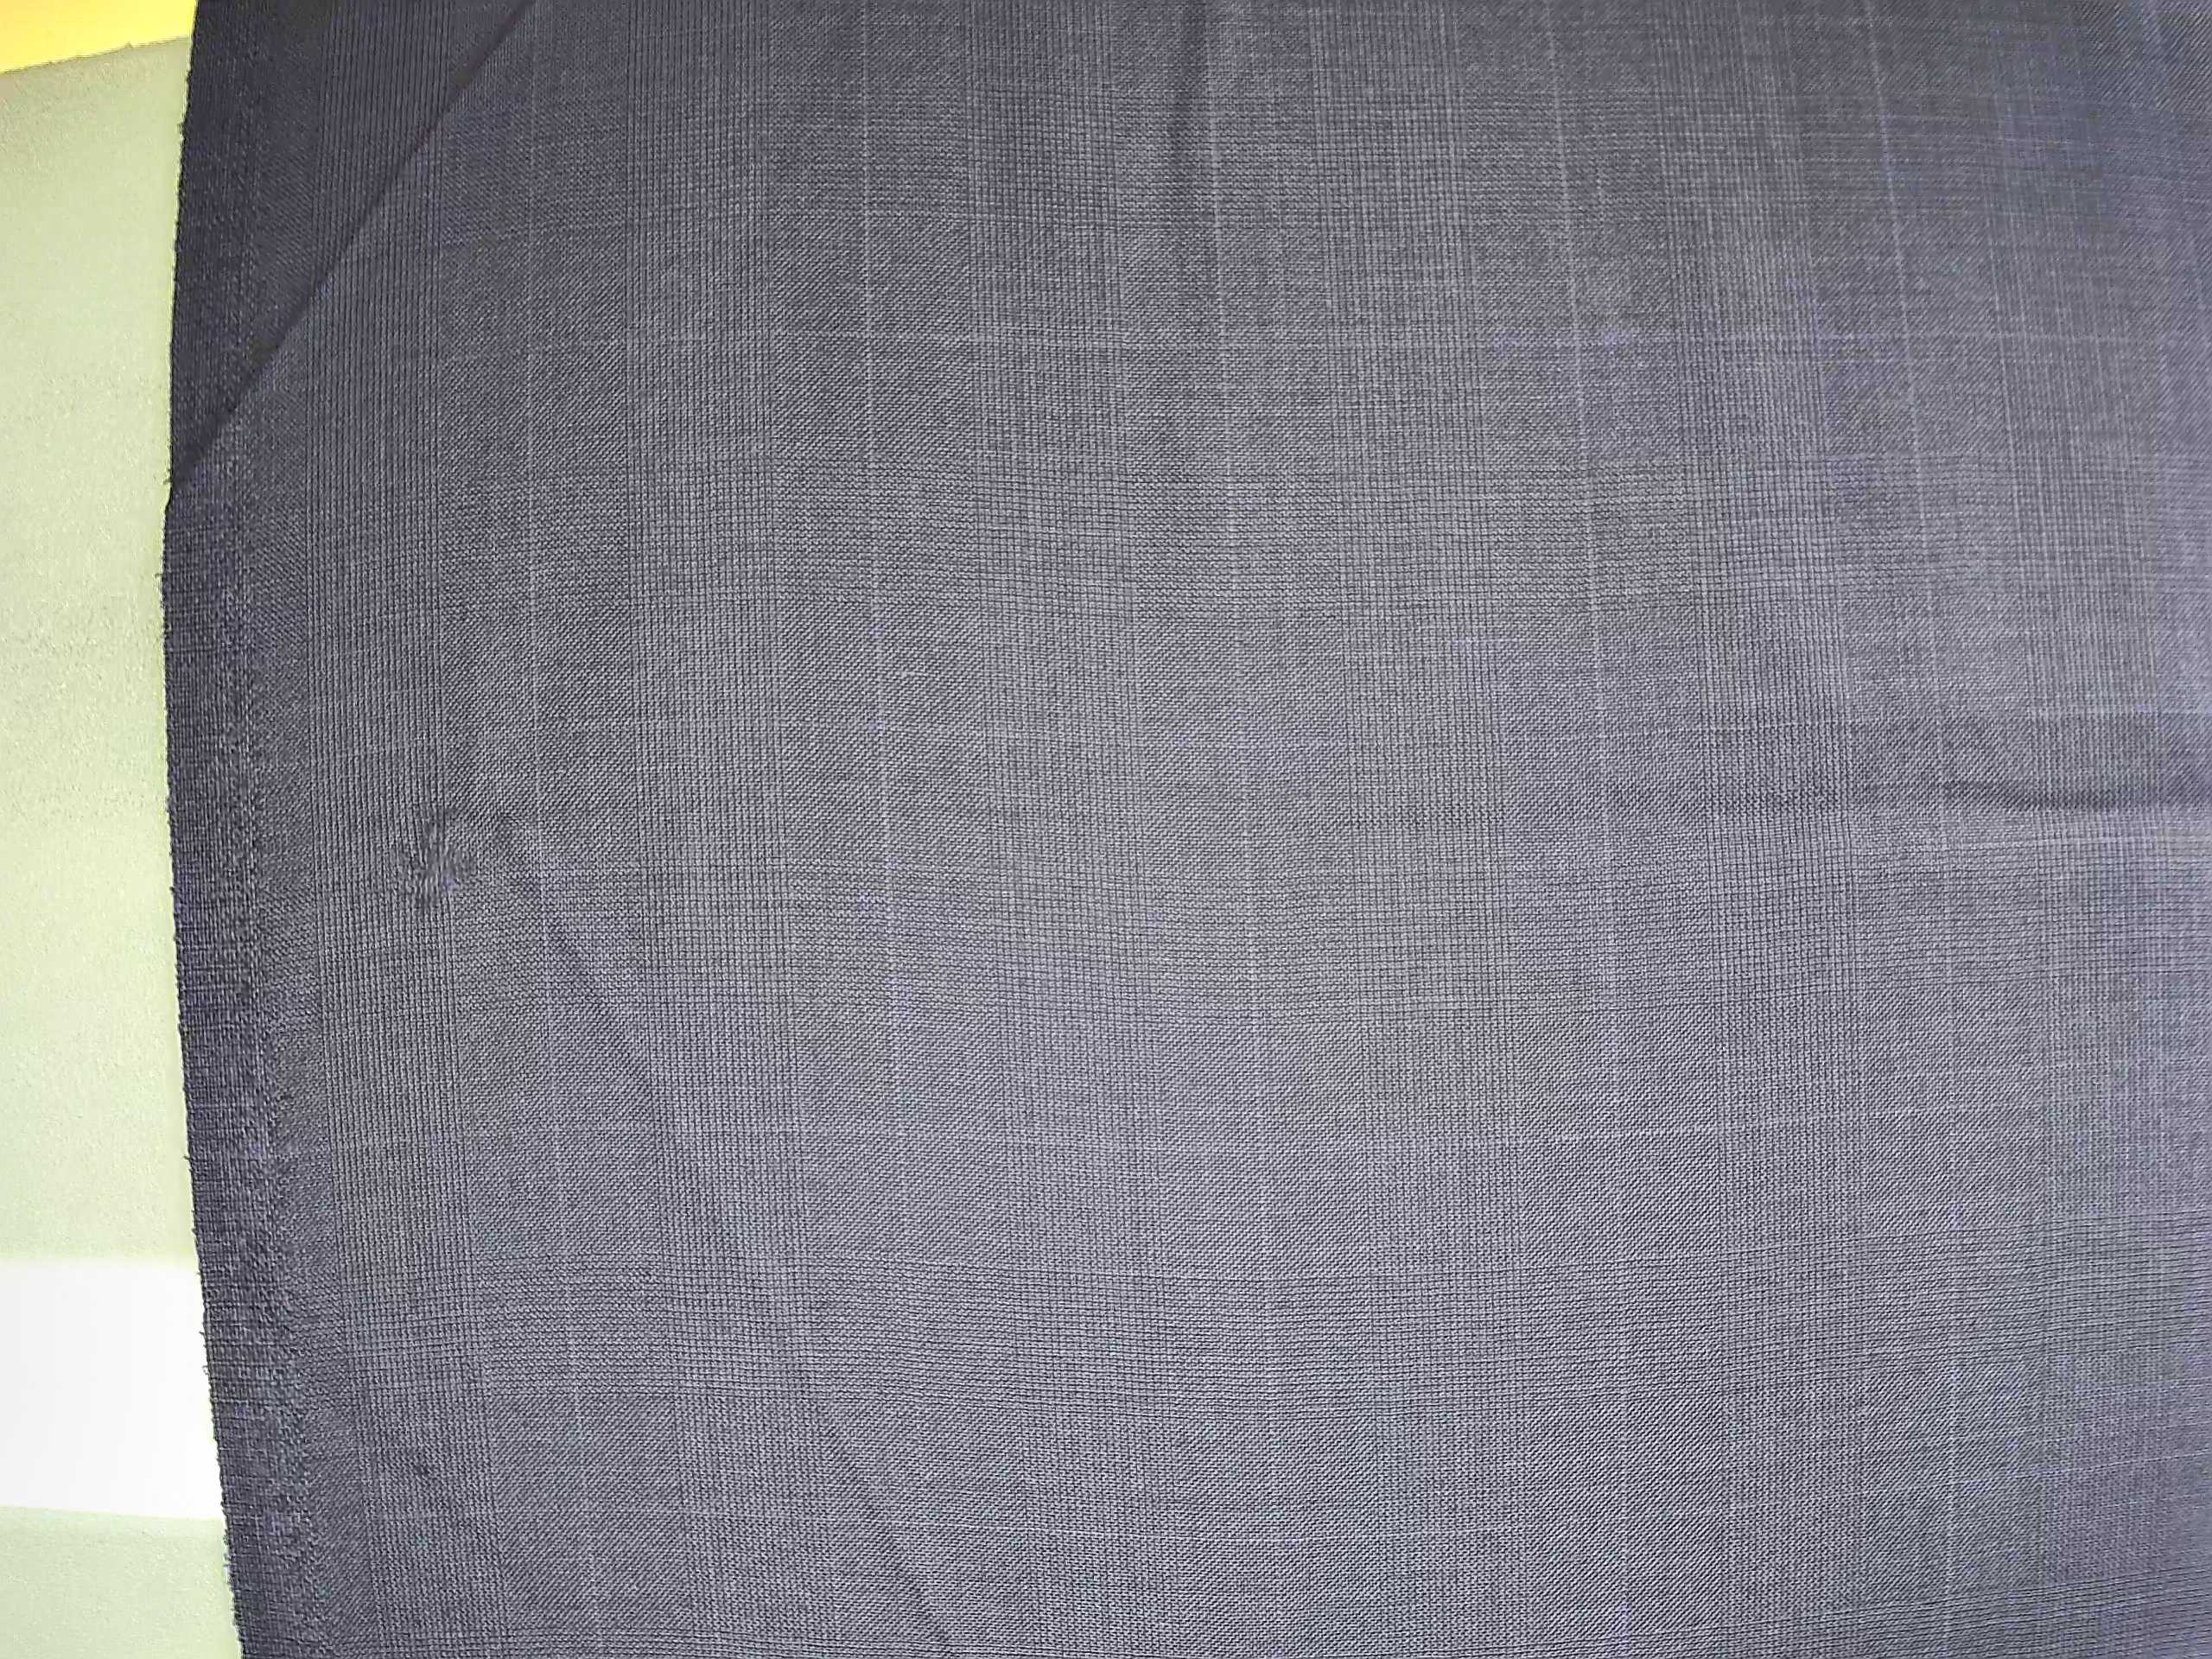bruise: (369, 777, 585, 936)
